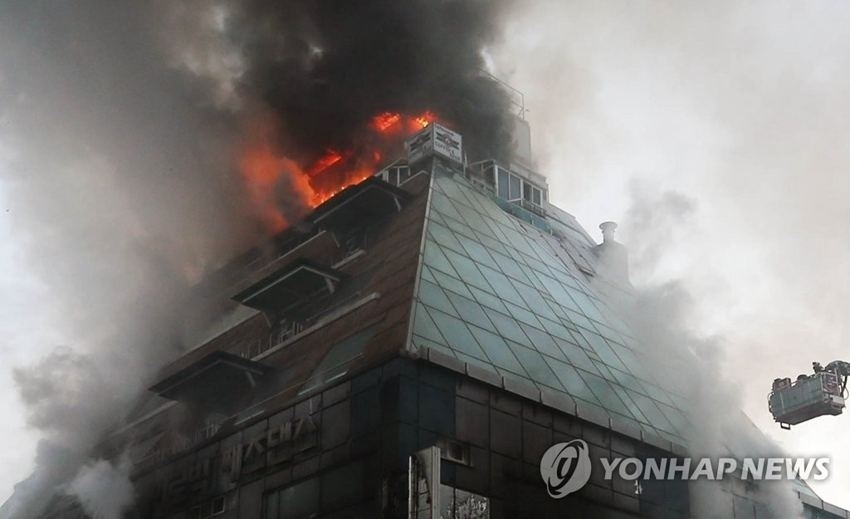fire: (246, 108, 433, 216)
